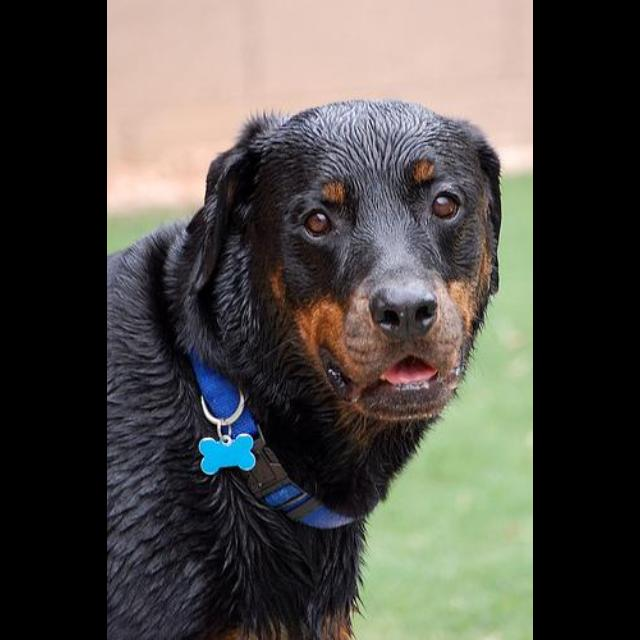rottweiler: (108, 99, 504, 640)
